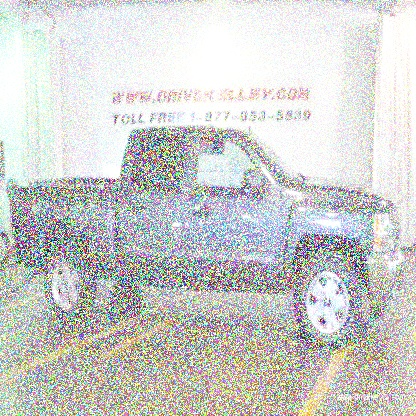Vehicle: (12, 128, 406, 347)
